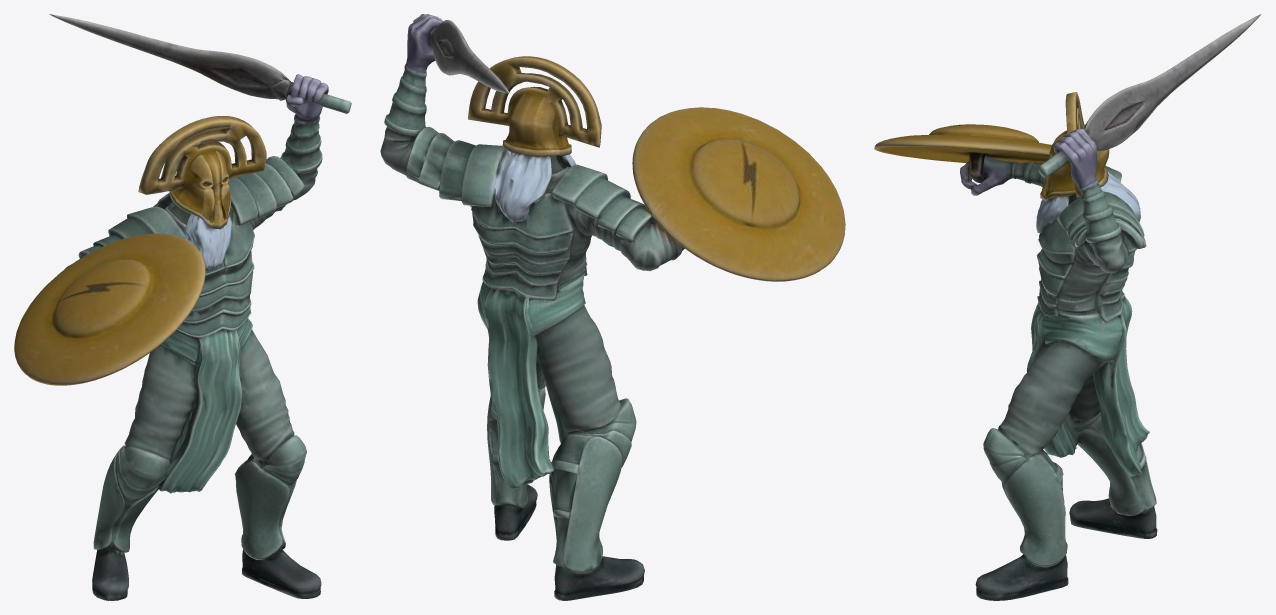
File: MZ4250 - Storm Giant (Male).glb
3 views of the same model, side by side, from view 1: azimuth 30°, elevation 25°; view 2: azimuth 150°, elevation 25°; view 3: azimuth 270°, elevation 25° (orthographic). The views are drawn at different scales.
Parts seen in each view (by area): view 1: gpstormgiant01.001; view 2: gpstormgiant01.001; view 3: gpstormgiant01.001.
Part boxes in pixels (box(x1,y1,x2,y2)): gpstormgiant01.001: box(14, 14, 351, 600); gpstormgiant01.001: box(380, 14, 845, 600); gpstormgiant01.001: box(874, 14, 1261, 600).
Size of the model in its own units: 1.03 by 1.42 by 0.9612.
1 material, 1 textured.
